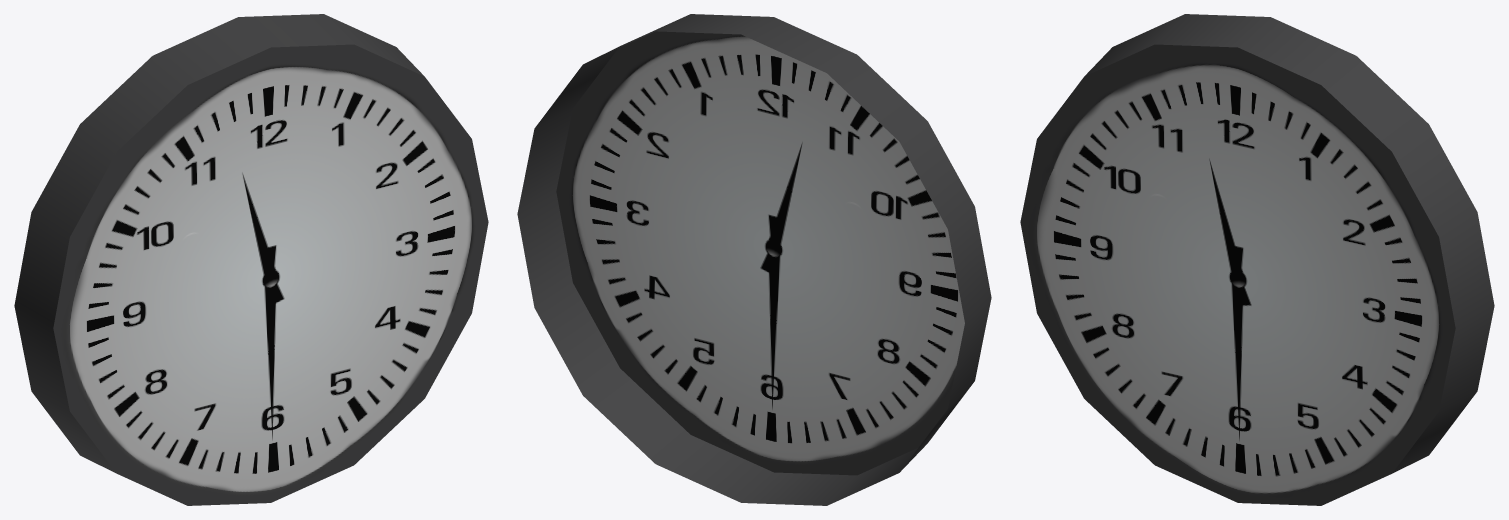
Rendered from Clock.FBX.
3 renders of one model, left to right at view 1: azimuth 30°, elevation 25°; view 2: azimuth 150°, elevation 25°; view 3: azimuth 330°, elevation 25°, orthographic.
Visible parts, largest first — view 1: Clock; view 2: Clock; view 3: Clock.
Boxes of the visible parts, x1,y1,x2,y2 form: Clock: (14, 14, 488, 505); Clock: (517, 14, 991, 505); Clock: (1020, 14, 1494, 505).
Size of the model in its own units: 3.92 by 3.92 by 0.4968.
1 material, 1 textured.
